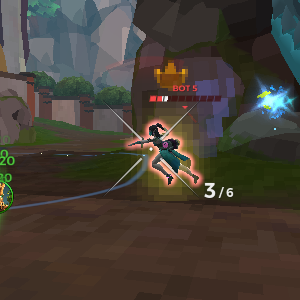model: (134, 115, 199, 195)
